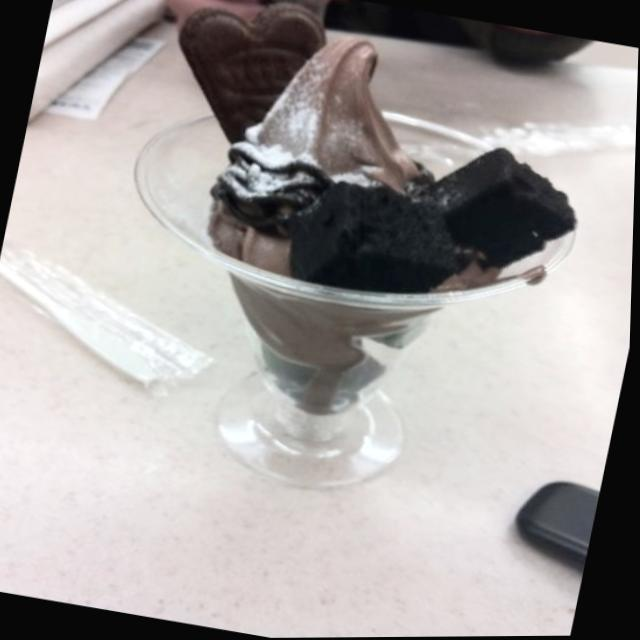蛋糕甜品: (23, 0, 634, 537)
